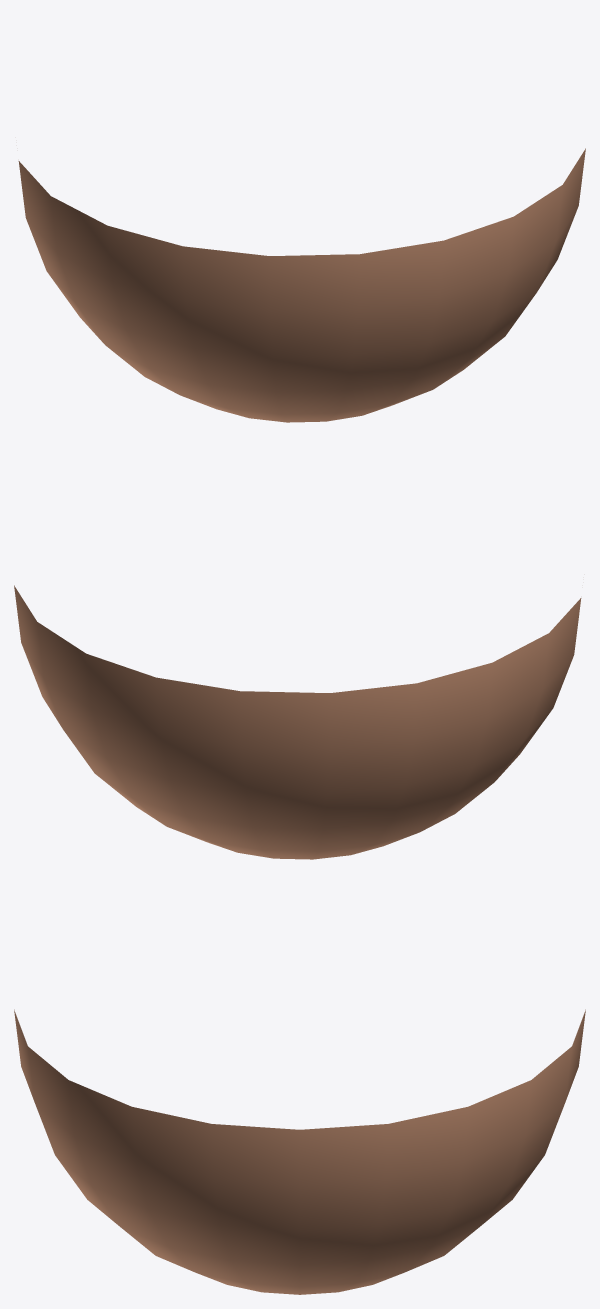
Rendered from bowl.glb.
The picture shows the model from 3 angles, top to bottom: view 1: azimuth 30°, elevation 25°; view 2: azimuth 150°, elevation 25°; view 3: azimuth 270°, elevation 25°; orthographic projection.
Visible parts, largest first — view 1: bowl; view 2: bowl; view 3: bowl.
Boxes of the visible parts, left/top/right/bottom form: bowl: left=18, top=148, right=585, bottom=422; bowl: left=14, top=585, right=581, bottom=859; bowl: left=14, top=1009, right=585, bottom=1294.
Bounding box in the file's own units: 0.4 × 0.2 × 0.4.
